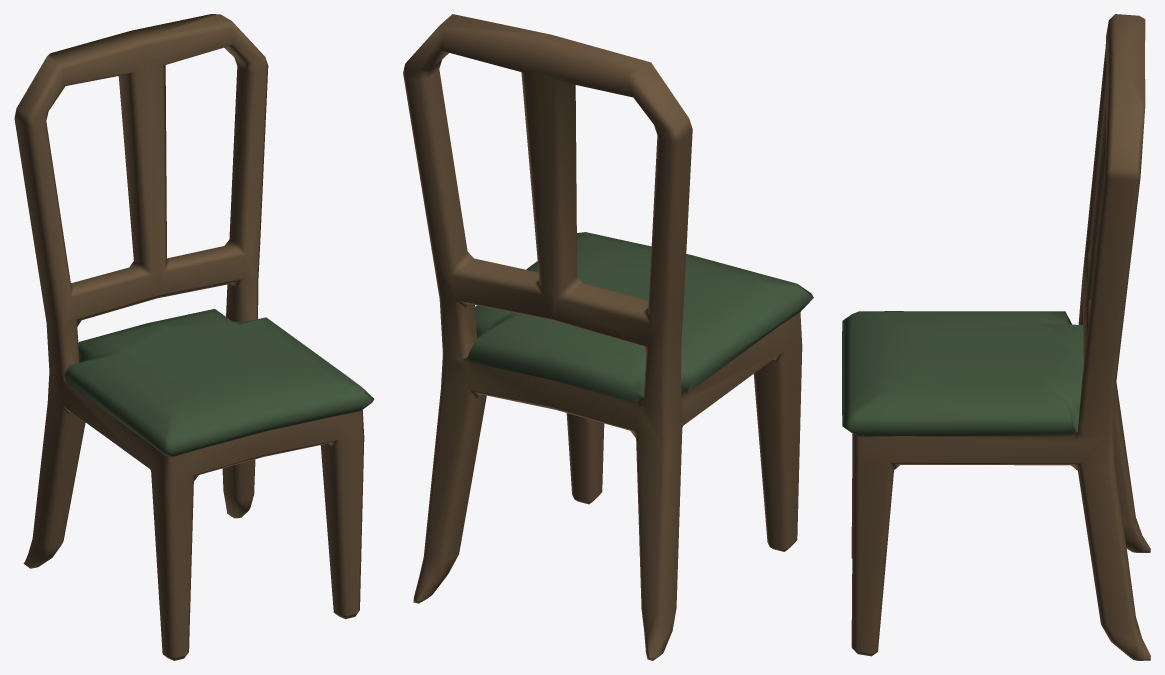
The model's file is chair1.gltf.
The picture shows the model from 3 angles, left to right: view 1: azimuth 30°, elevation 25°; view 2: azimuth 150°, elevation 25°; view 3: azimuth 270°, elevation 25°; orthographic projection. The views are drawn at different scales.
Visible parts, largest first — view 1: Cube; view 2: Cube; view 3: Cube.
Boxes of the visible parts, x1,y1,x2,y2 form: Cube: [14, 14, 374, 660]; Cube: [403, 14, 813, 660]; Cube: [842, 14, 1150, 660].
Size of the model in its own units: 0.6898 by 1.4 by 0.7069.
